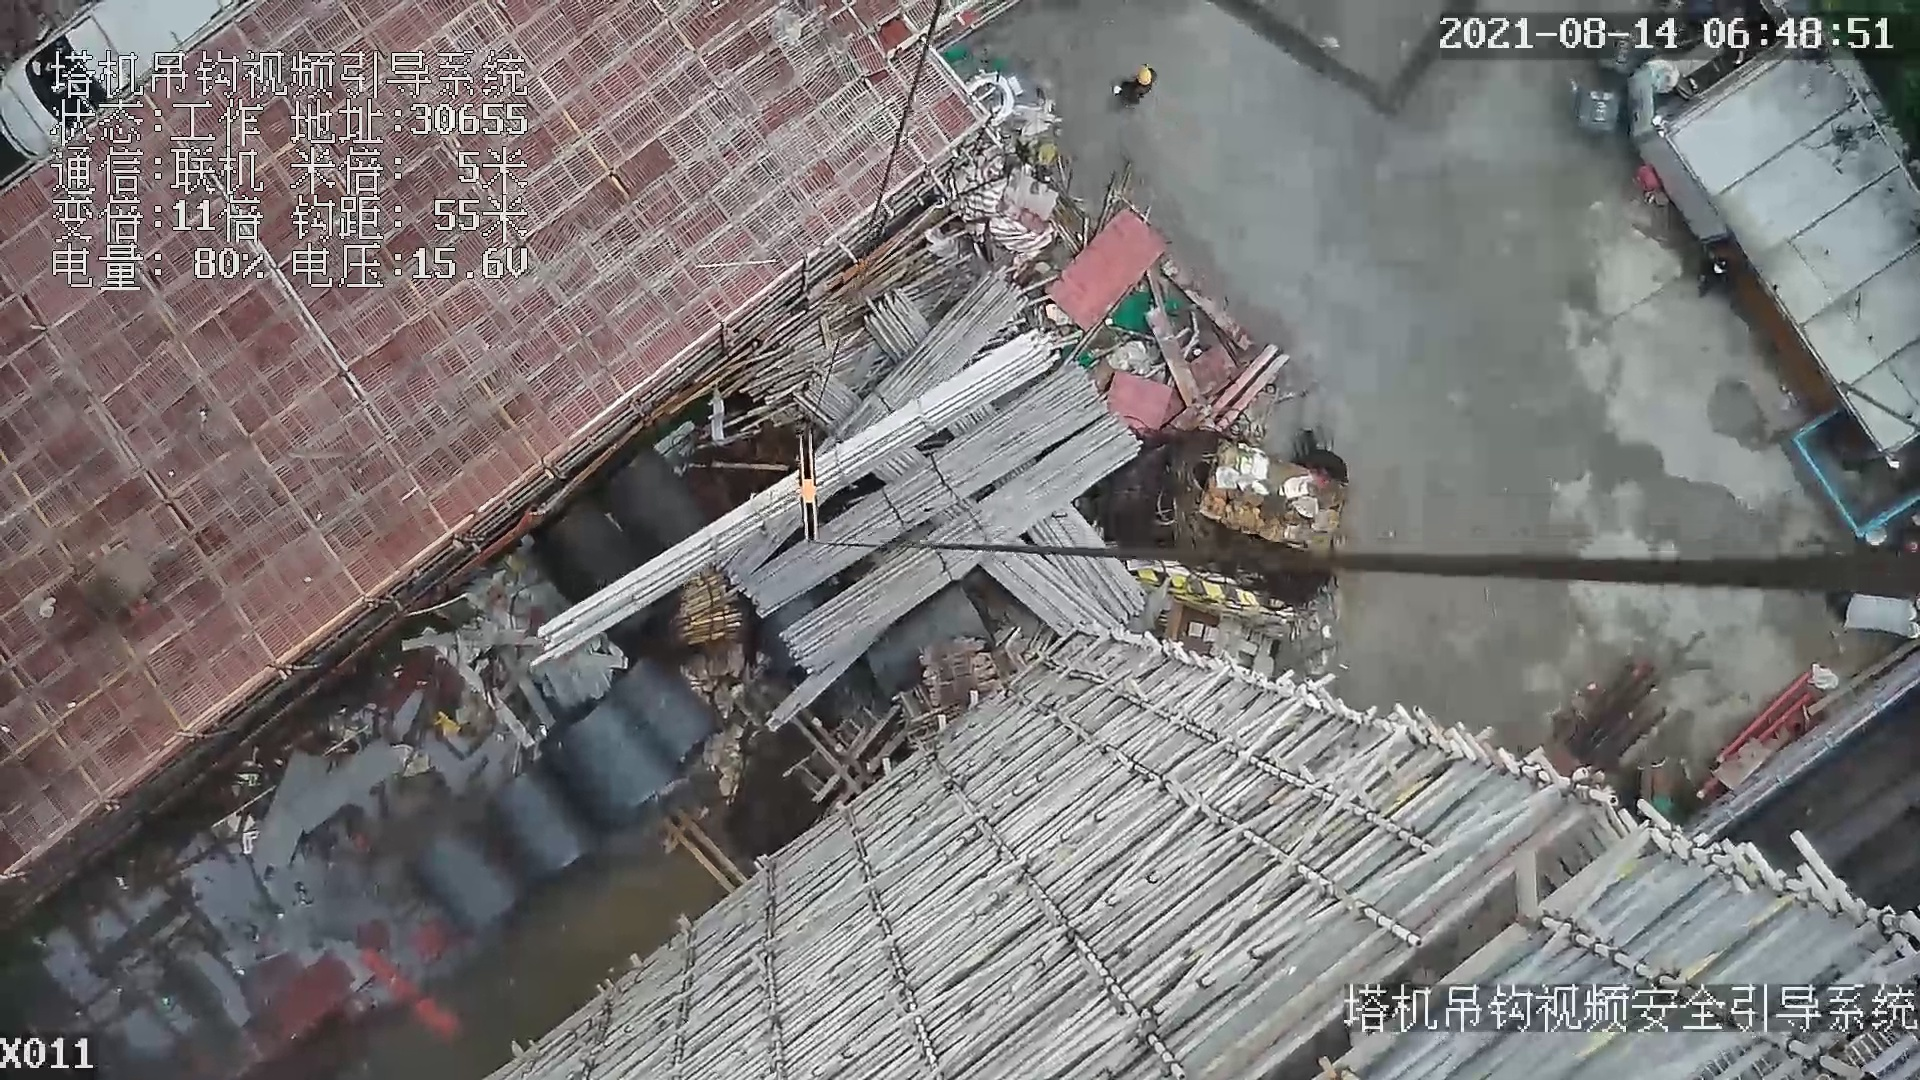helmet: (1134, 64, 1158, 90)
hook: (796, 428, 828, 549)
person: (1109, 59, 1167, 115)
